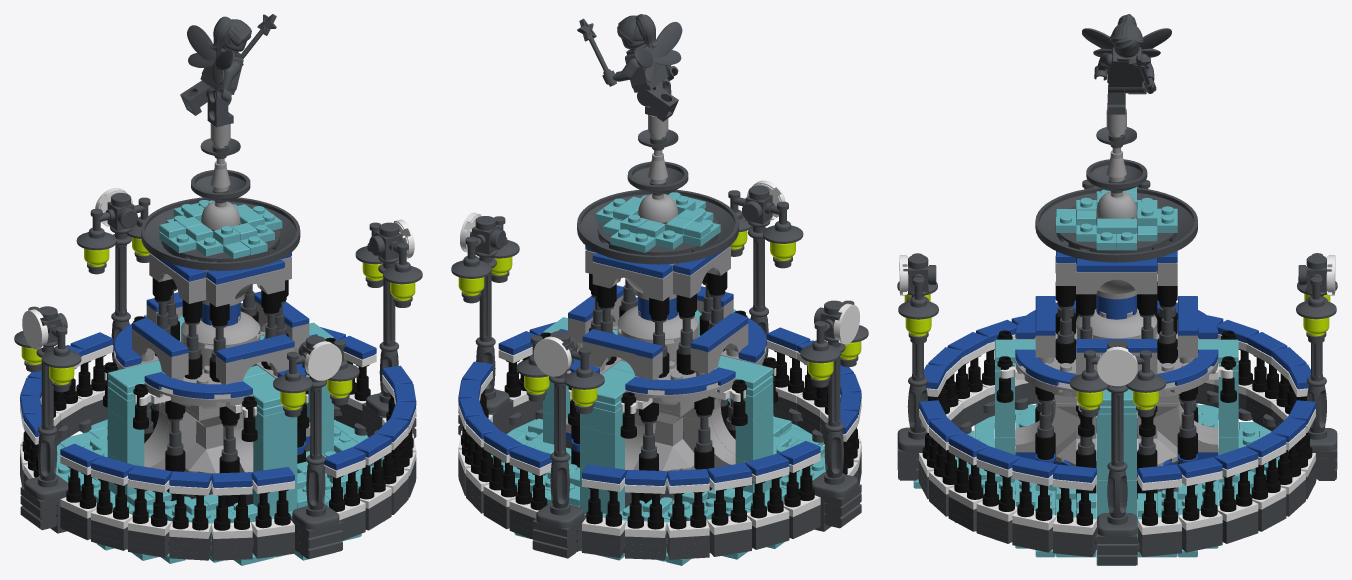
Rendered from Disney Castle_fountain.fbx.
3 renders of one model, left to right at view 1: azimuth 30°, elevation 25°; view 2: azimuth 150°, elevation 25°; view 3: azimuth 270°, elevation 25°, orthographic. The views are drawn at different scales.
Visible parts, largest first — view 1: part.467, part.383, part.396, part.409, part.743, part.738, part.262, part.422, part.237, part.443, part.258, part.234 (+47 smaller); view 2: part.467, part.422, part.396, part.409, part.741, part.738, part.324, part.236, part.443, part.383, part.258, part.235 (+47 smaller); view 3: part.467, part.409, part.383, part.422, part.239, part.258, part.414, part.469, part.739, part.443, part.446, part.292 (+38 smaller).
Part boxes in pixels (<box>): part.467: <box>141,197,300,270</box>; part.383: <box>292,369,339,529</box>; part.396: <box>24,341,68,500</box>; part.409: <box>366,256,398,416</box>; part.743: <box>253,430,297,473</box>; part.738: <box>107,409,144,464</box>; part.262: <box>144,372,252,398</box>; part.422: <box>103,226,131,366</box>; part.237: <box>206,268,284,306</box>; part.443: <box>187,25,241,84</box>; part.258: <box>181,311,260,348</box>; part.234: <box>216,346,294,384</box>; part.467: <box>577,189,738,264</box>; part.422: <box>536,365,584,528</box>; part.396: <box>812,336,858,497</box>; part.409: <box>475,250,509,413</box>; part.741: <box>580,426,624,470</box>; part.738: <box>735,405,773,461</box>; part.324: <box>625,367,735,394</box>; part.236: <box>592,261,672,301</box>; part.443: <box>626,21,682,82</box>; part.383: <box>747,219,776,361</box>; part.258: <box>617,305,698,343</box>; part.235: <box>582,341,662,380</box>; part.467: <box>1035,187,1197,262</box>; part.409: <box>1097,385,1137,536</box>; part.383: <box>897,288,929,451</box>; part.422: <box>1305,288,1337,451</box>; part.239: <box>1076,264,1157,294</box>; part.258: <box>1076,308,1157,338</box>; part.414: <box>1097,346,1137,386</box>; part.469: <box>1086,159,1147,193</box>; part.739: <box>1096,436,1136,480</box>; part.443: <box>1082,28,1171,61</box>; part.446: <box>1055,205,1177,253</box>; part.292: <box>1015,403,1075,452</box>.
Size of the model in its own units: 17488 by 20451 by 17335.
